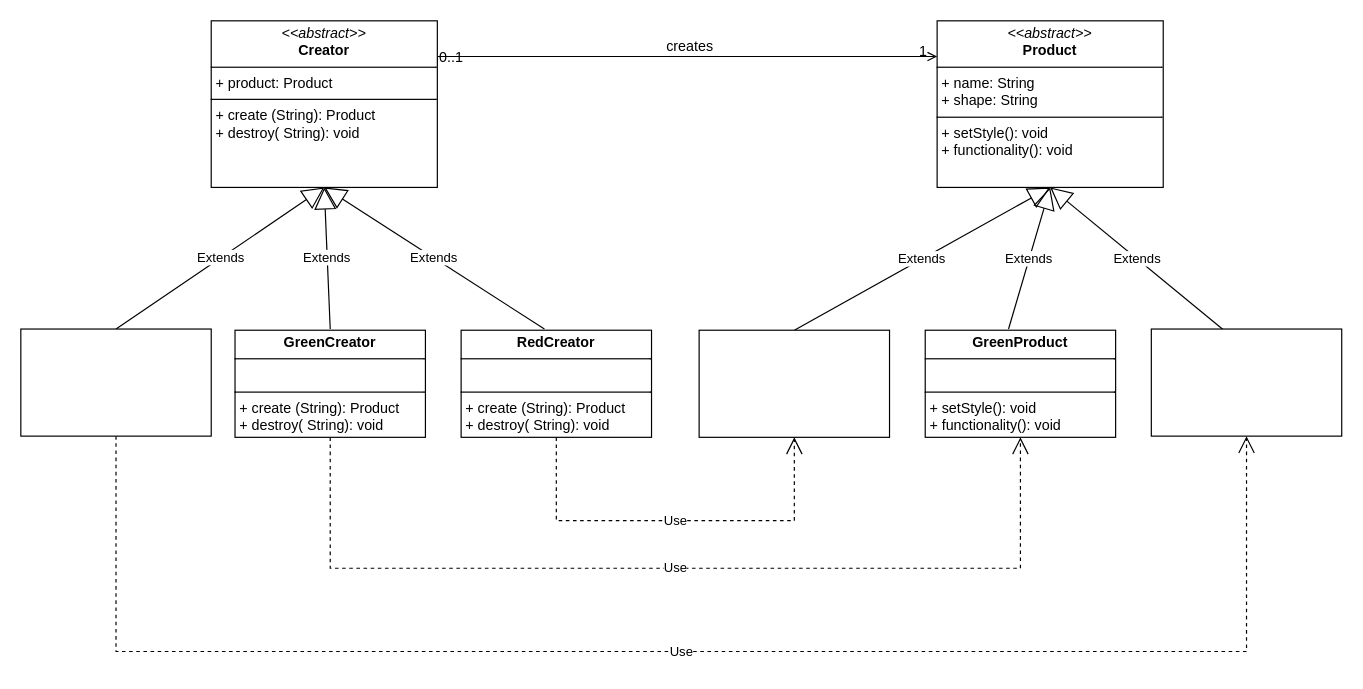
Some shapes in this 1363 by 689 pixel diagram are drawn without their labels. The centre of each missing label's shape, as x and y in pixels:
BlueCreator + create (String): Product + destroy( String): void: (115,382)
BlueProduct + setStyle(): void + functionality(): void: (1246,382)
RedProduct + setStyle(): void + functionality(): void: (794,383)
